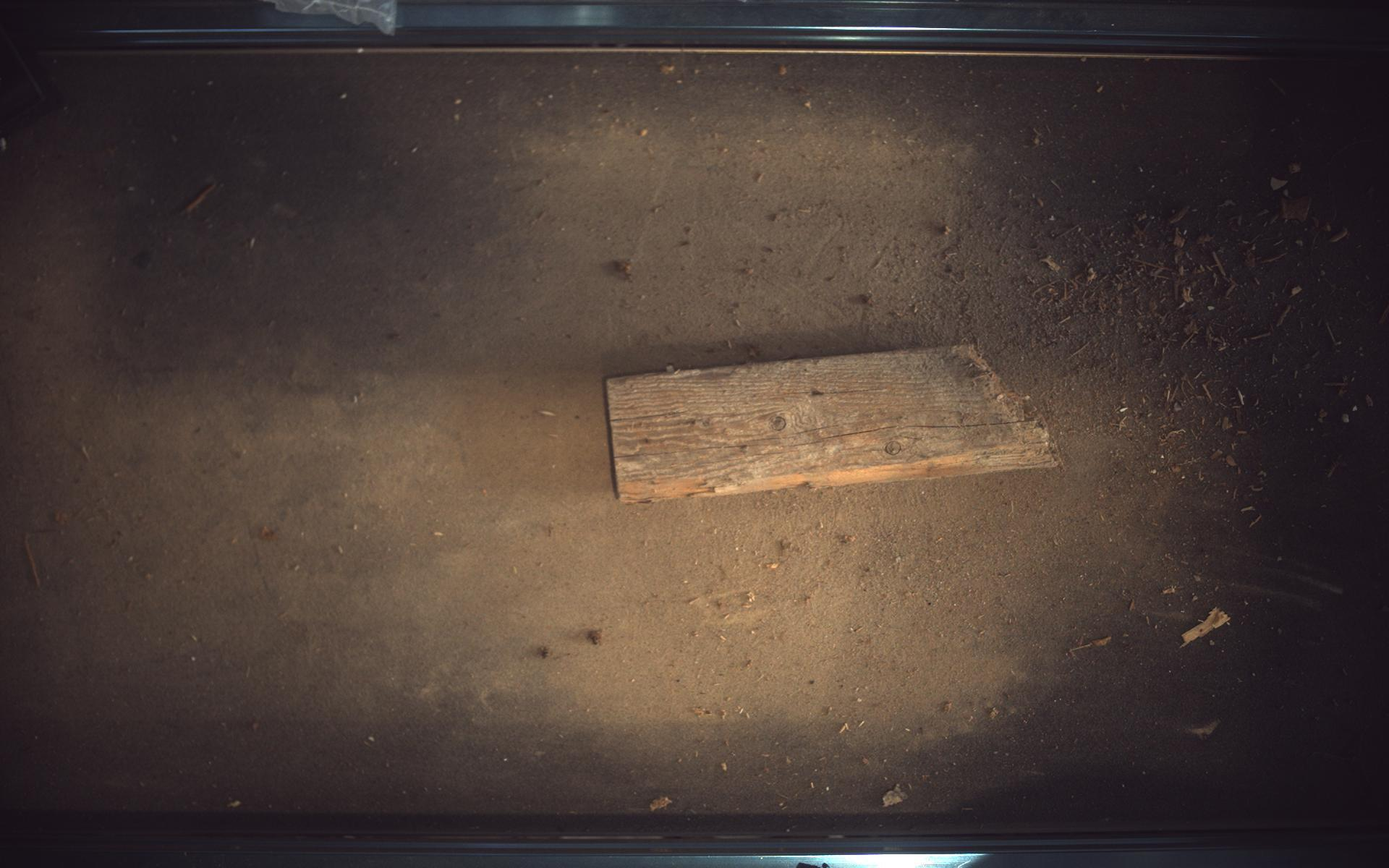wood: (606, 344, 1062, 503)
